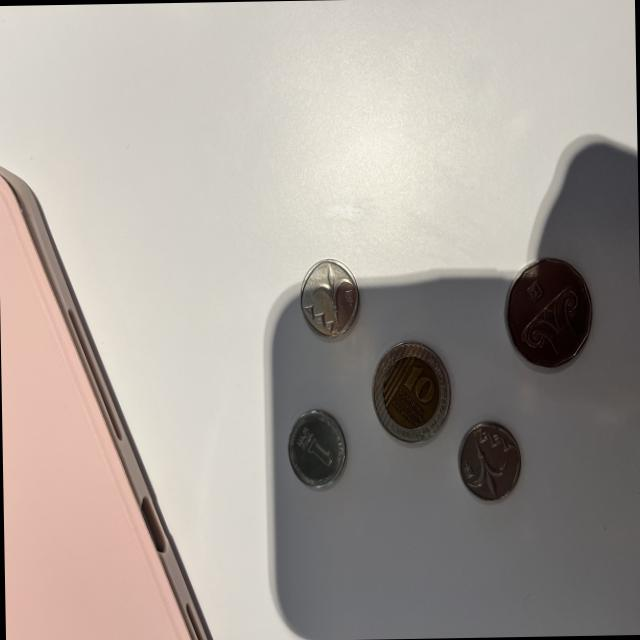1-shekel: (294, 240, 361, 346), (285, 399, 350, 496), (458, 416, 522, 506)
10-shekel: (366, 334, 452, 450)
5-shekel: (498, 248, 596, 376)
